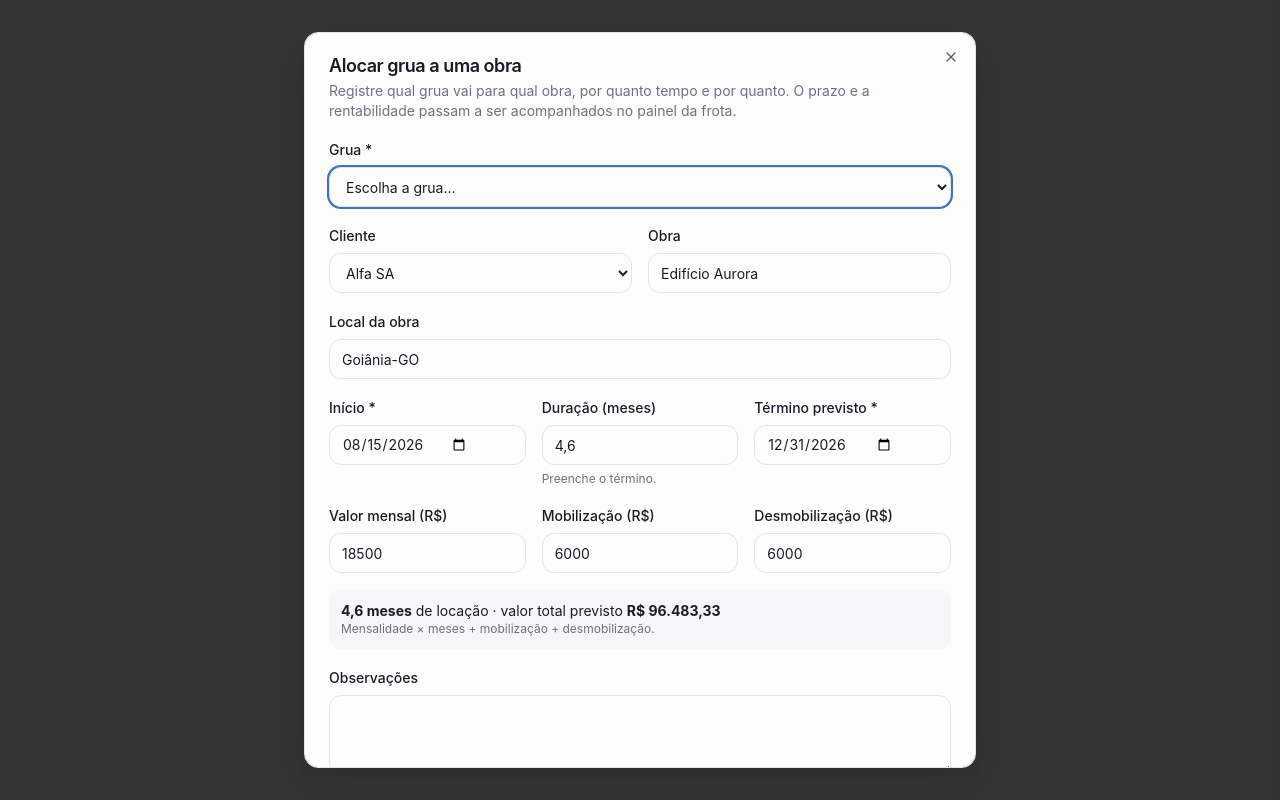
Test case: alocar grua a uma obra › grua ocupada no período: avisa e não grava
The width and height of the screenshot is (1280, 800).
Select "G1 — Grua A (Lança 50 m · Altura 40 m · Carga 2.500 kg · Ponta 1.000 kg) · ocupa" in the dropdown labelled "Grua *" at (640, 187), box [329,167,951,207]
(page scrolled)
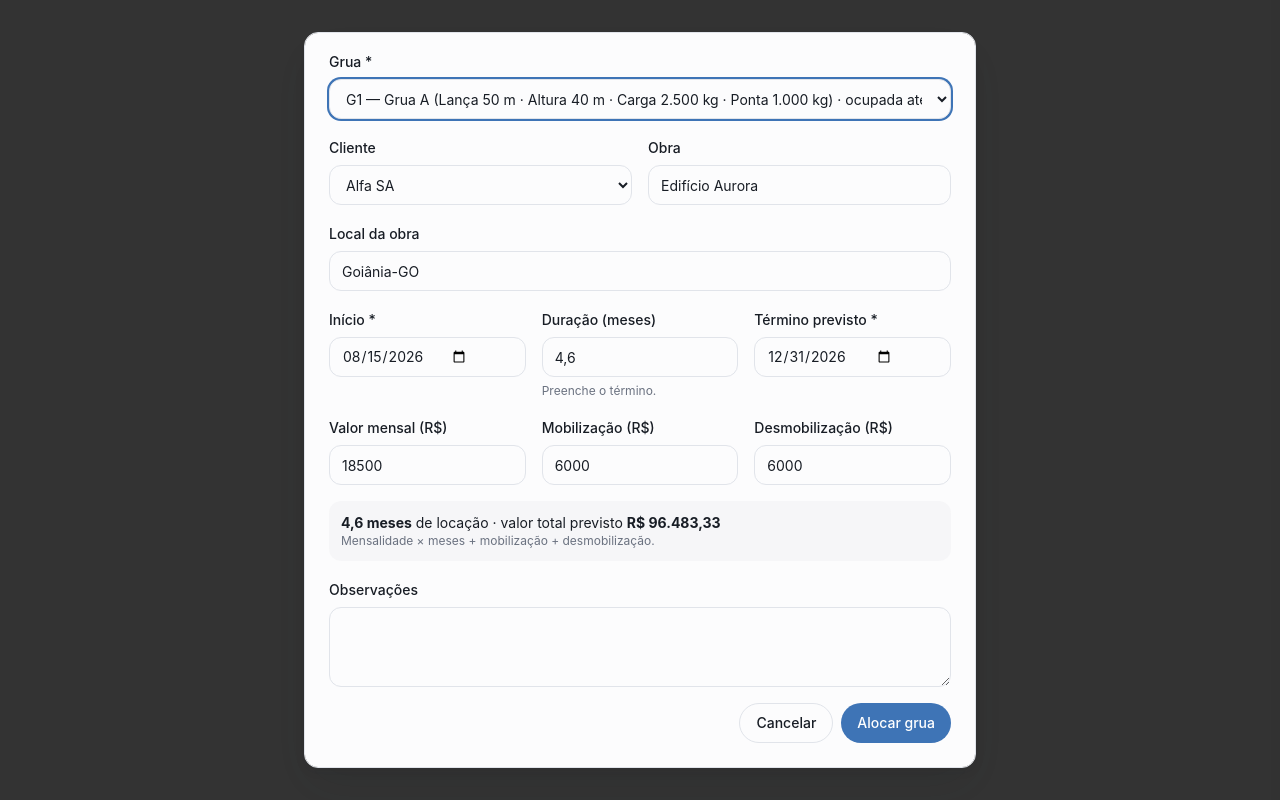
Click the button "Alocar grua".
click(896, 723)  # box [841,703,951,743]
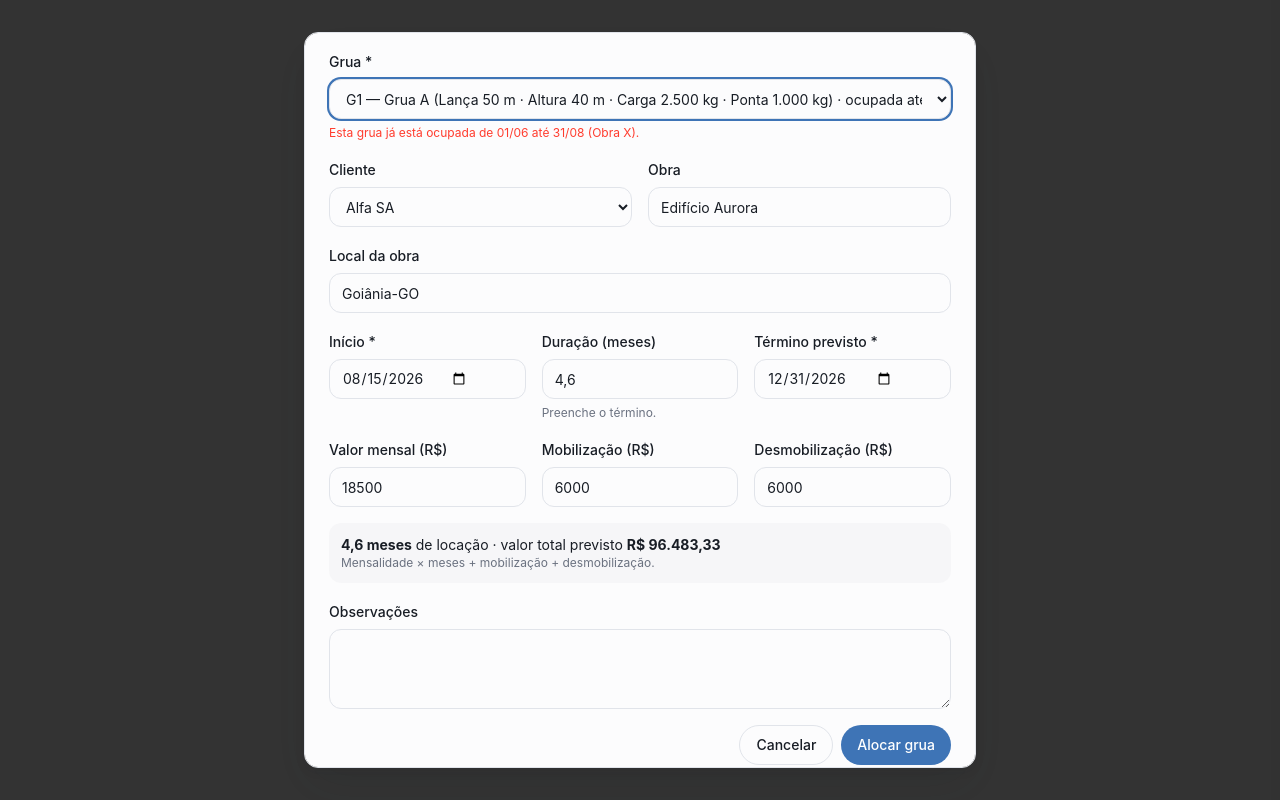
Expected: the text "Esta grua já está ocupada de 01/06 até 31/08 (Obra X)." is shown, [329,125,639,140]
